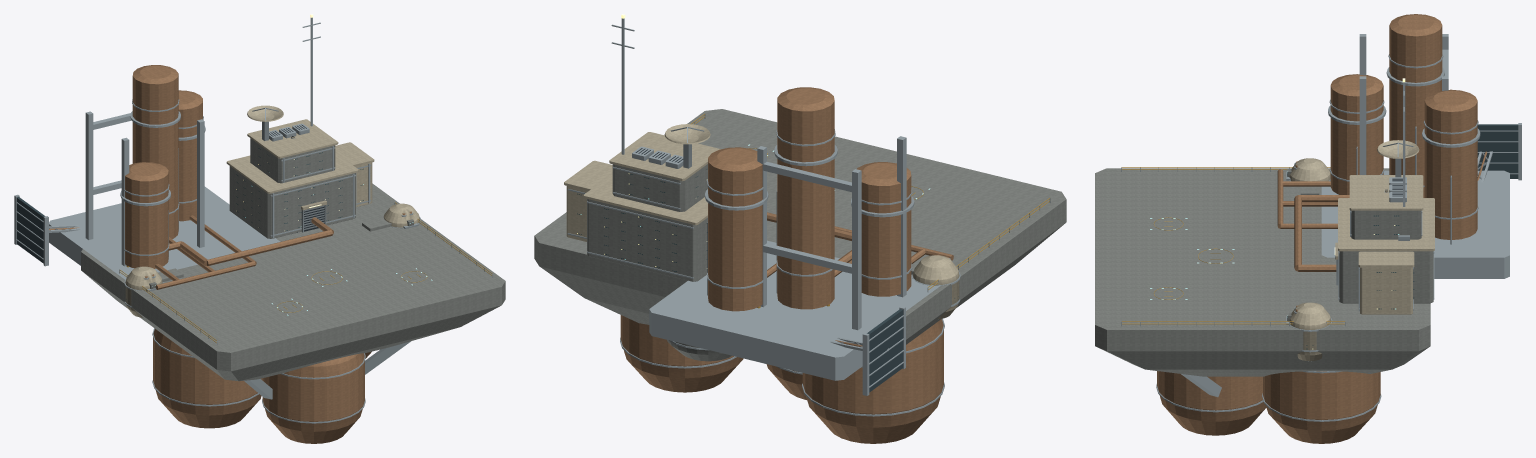
The model's file is torchwell.glb.
The picture shows the model from 3 angles, left to right: view 1: azimuth 30°, elevation 25°; view 2: azimuth 150°, elevation 25°; view 3: azimuth 270°, elevation 25°; orthographic projection. The views are drawn at different scales.
Parts seen in each view (by area): view 1: torchwell / hull, torchwell / copper, torchwell / metal, torchwell / armor, torchwell / radiator, torchwell / ochre; view 2: torchwell / copper, torchwell / hull, torchwell / metal, torchwell / armor, torchwell / radiator; view 3: torchwell / hull, torchwell / copper, torchwell / metal, torchwell / armor, torchwell / radiator, torchwell / ochre.
Boxes of the visible parts, x1,y1,x2,y2 form: torchwell / hull: (81, 138, 505, 381); torchwell / copper: (49, 65, 411, 443); torchwell / metal: (14, 17, 492, 423); torchwell / armor: (125, 105, 420, 317); torchwell / radiator: (16, 197, 45, 263); torchwell / ochre: (120, 202, 492, 342); torchwell / copper: (620, 87, 953, 443); torchwell / hull: (534, 109, 1066, 367); torchwell / metal: (567, 18, 1050, 416); torchwell / armor: (564, 124, 959, 319); torchwell / radiator: (867, 309, 903, 392); torchwell / hull: (1095, 168, 1433, 376); torchwell / copper: (1157, 14, 1486, 443); torchwell / metal: (1121, 34, 1521, 421); torchwell / armor: (1289, 140, 1434, 361); torchwell / radiator: (1477, 124, 1518, 178); torchwell / ochre: (1121, 167, 1344, 324).
Bounding box in the file's own units: 124 × 131 × 128.
10 materials, 4 textured.
